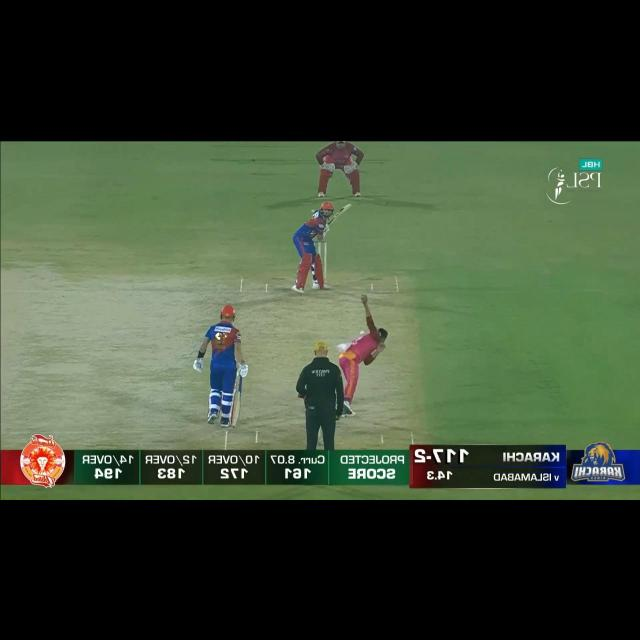bat: (326, 203, 352, 228), (232, 392, 246, 426)
toe: (231, 417, 239, 427), (342, 204, 352, 211)
